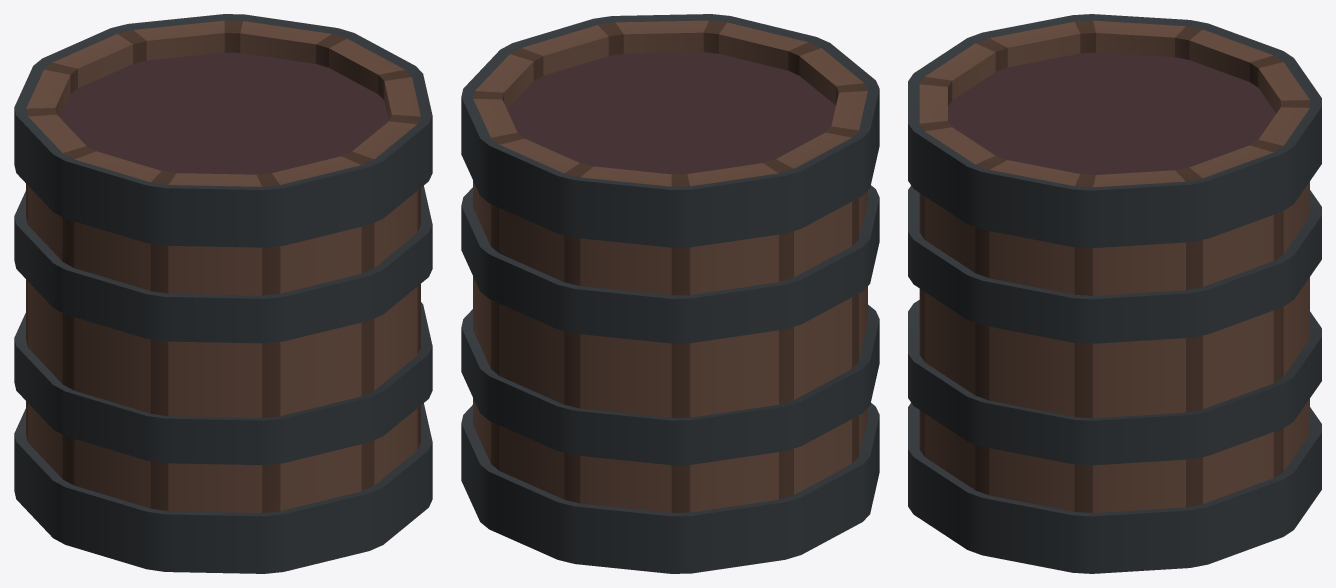
File: barrel (1).fbx
3 renders of one model, left to right at view 1: azimuth 30°, elevation 25°; view 2: azimuth 150°, elevation 25°; view 3: azimuth 270°, elevation 25°, orthographic.
Visible parts, largest first — view 1: barrel; view 2: barrel; view 3: barrel.
Part boxes in pixels (x1=…): barrel: x1=14, y1=14, x2=432, y2=573; barrel: x1=461, y1=14, x2=879, y2=573; barrel: x1=908, y1=14, x2=1321, y2=573.
Bounding box in the file's own units: 79.15 × 80.05 × 78.34.
